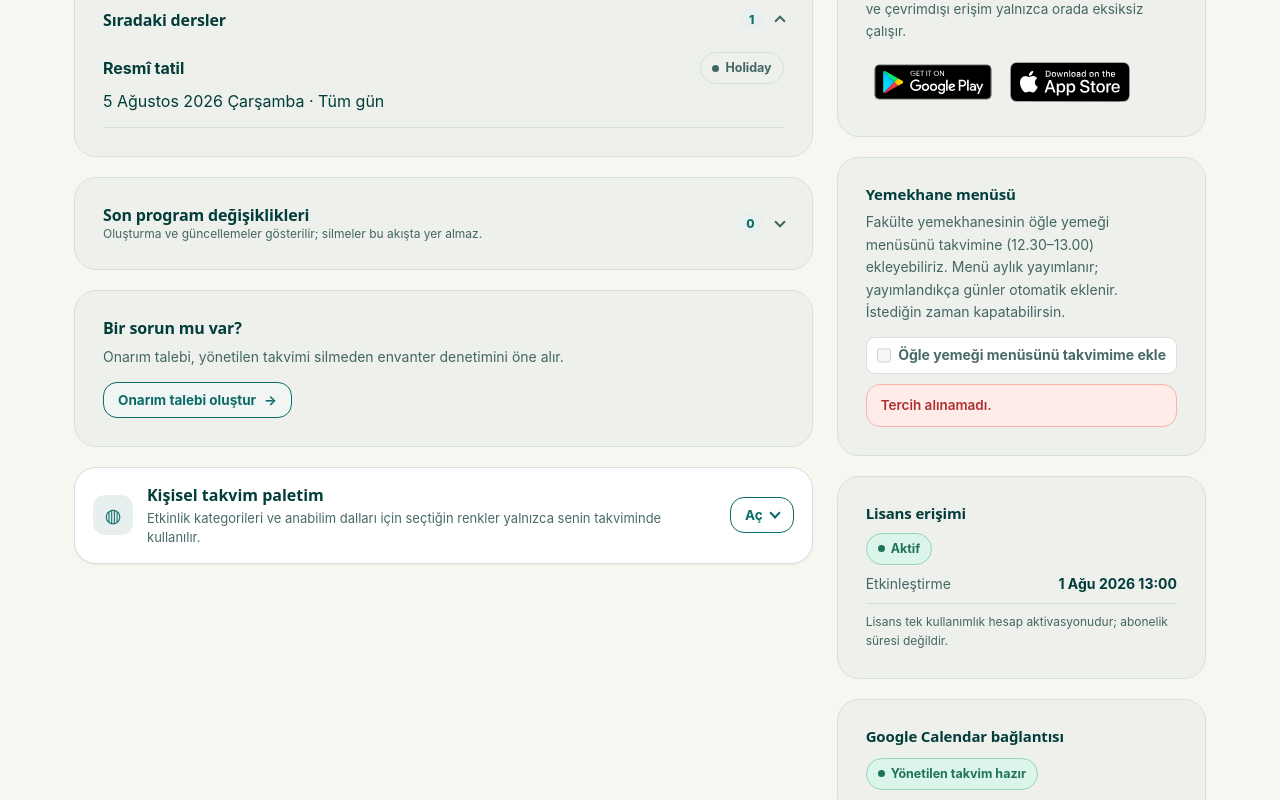
Test: Dashboard › reports rate limiting for reconciliation
(page scrolled)
Click the button "Onarım talebi oluştur →".
click(197, 400)  # box [103,382,292,418]
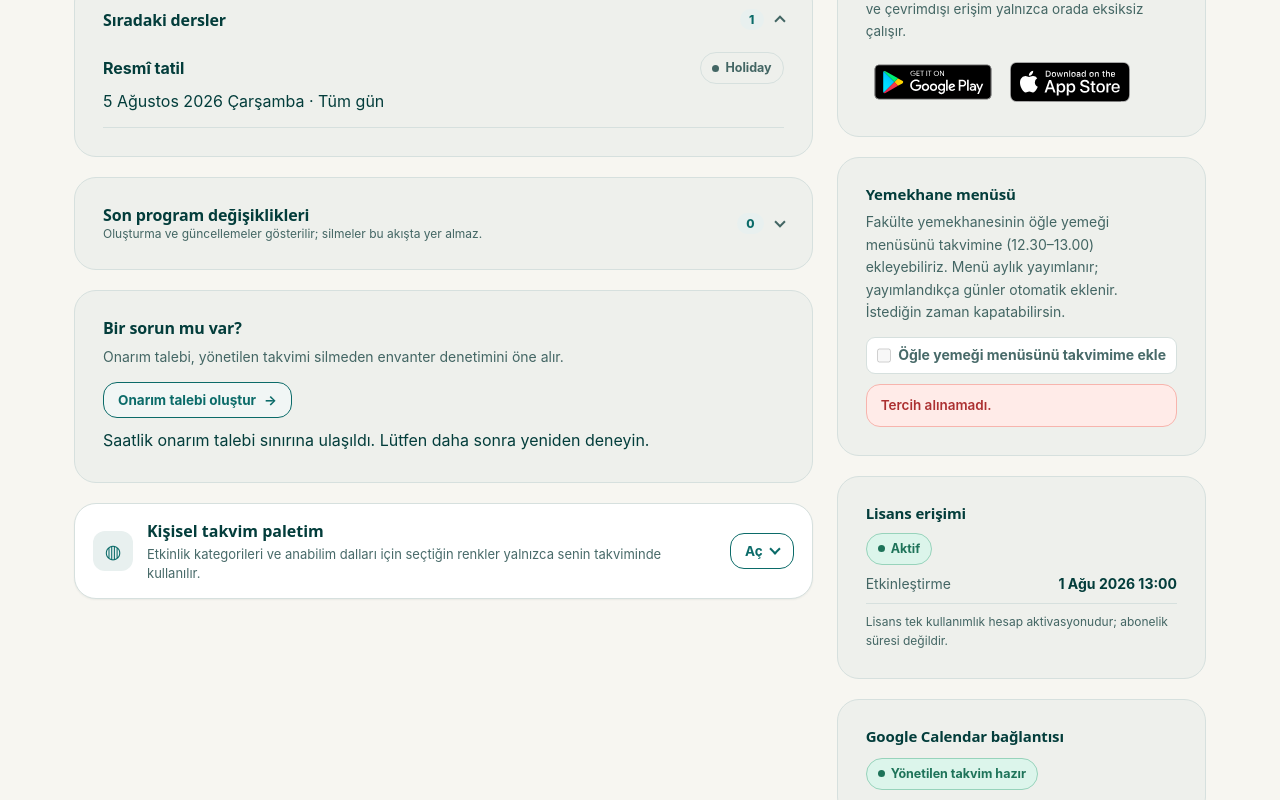
Result: the text "Saatlik onarım talebi sınırına ulaşıldı. Lütfen daha sonra yeniden deneyin." is shown at [103,430,650,450]
